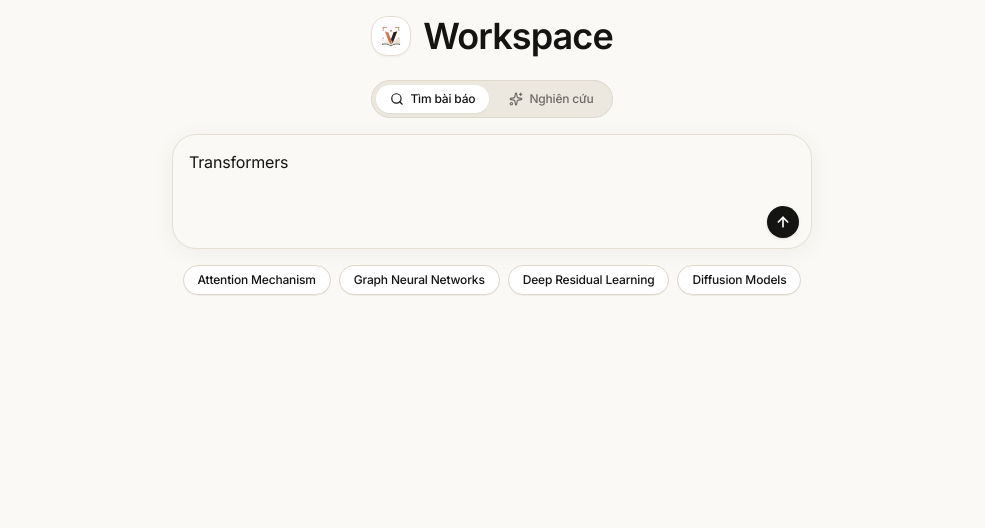
Test: UnifiedHeroWorkspace Component › toggles between all papers and peer-reviewed papers using the pill filter
Press Enter in the text box with placeholder "Tìm kiếm bài báo khoa học", box [189, 149, 795, 193]
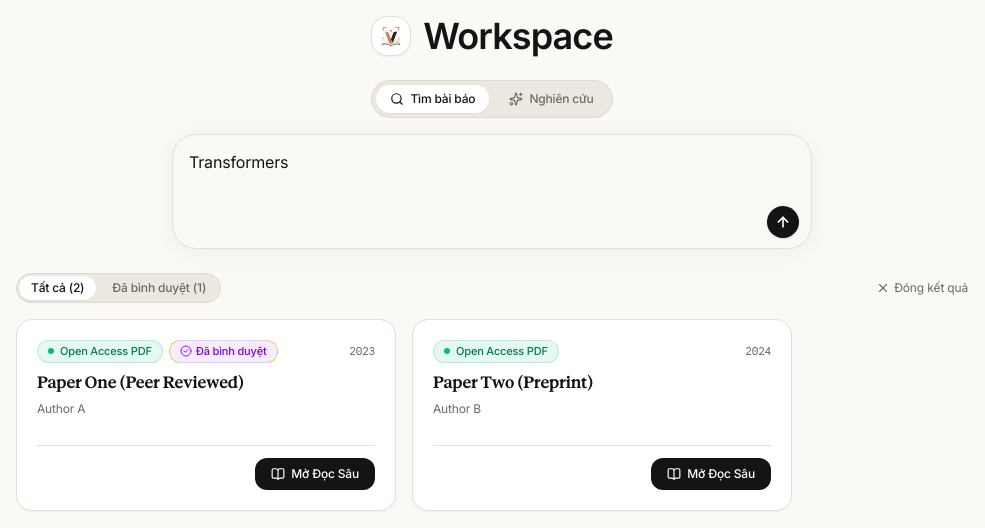
Now the heading "Paper One (Peer Reviewed)" is shown, box [37, 372, 244, 392]
Now the heading "Paper Two (Preprint)" is shown, box [433, 372, 593, 392]
Now the button with test id "filter-peer-reviewed-btn" reads "Đã bình duyệt (1)"
# Switch to peer-reviewed
Click the button with test id "filter-peer-reviewed-btn": (159, 288) [100, 276, 218, 300]
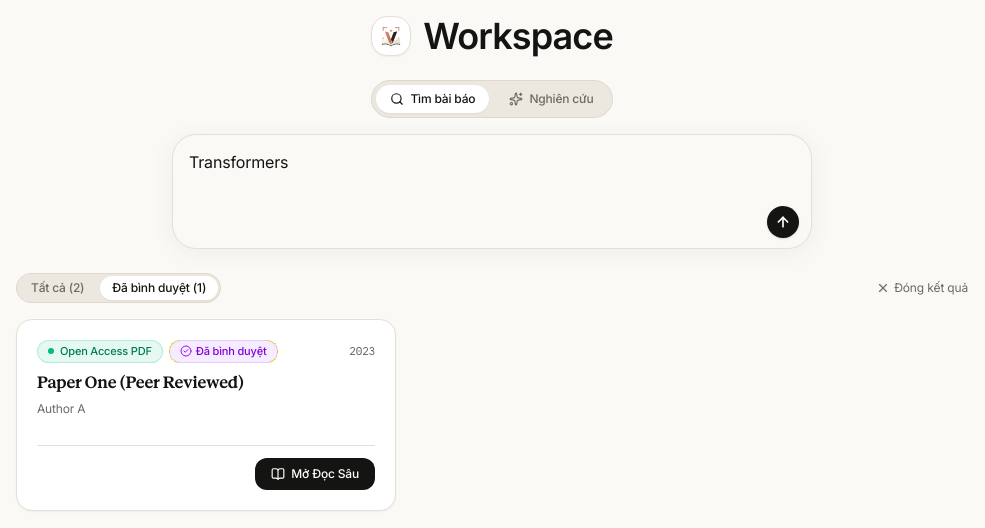
Now the heading "Paper One (Peer Reviewed)" is shown, box [37, 372, 244, 392]
Now the heading "Paper Two (Preprint)" is gone
# Switch back to all
Click the button with test id "filter-all-btn": (58, 288) [19, 276, 96, 300]
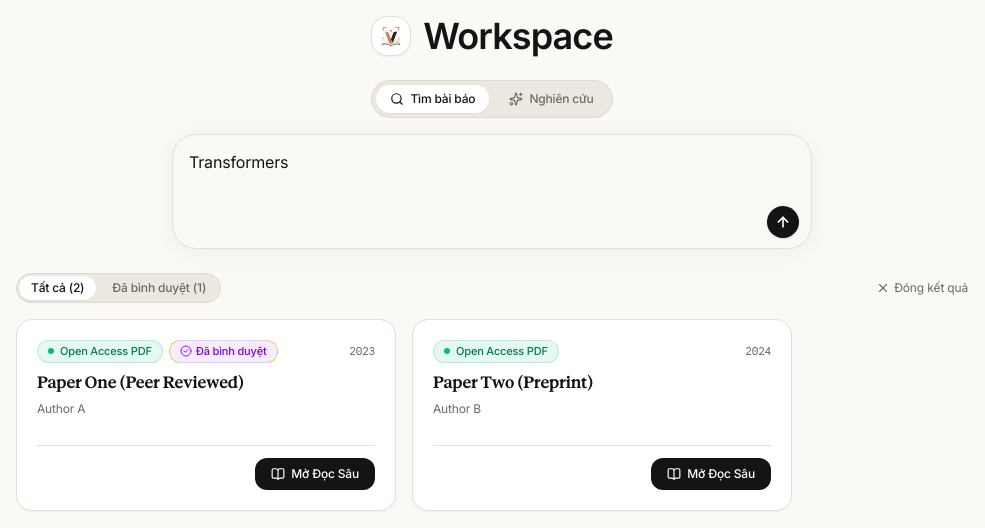
Now the heading "Paper One (Peer Reviewed)" is shown, box [37, 372, 244, 392]
Now the heading "Paper Two (Preprint)" is shown, box [433, 372, 593, 392]
